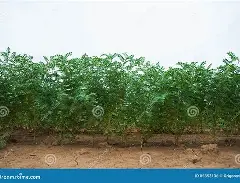crops: (0, 47, 236, 131), (132, 145, 239, 167), (0, 147, 47, 168), (216, 50, 239, 74), (0, 128, 12, 148)
